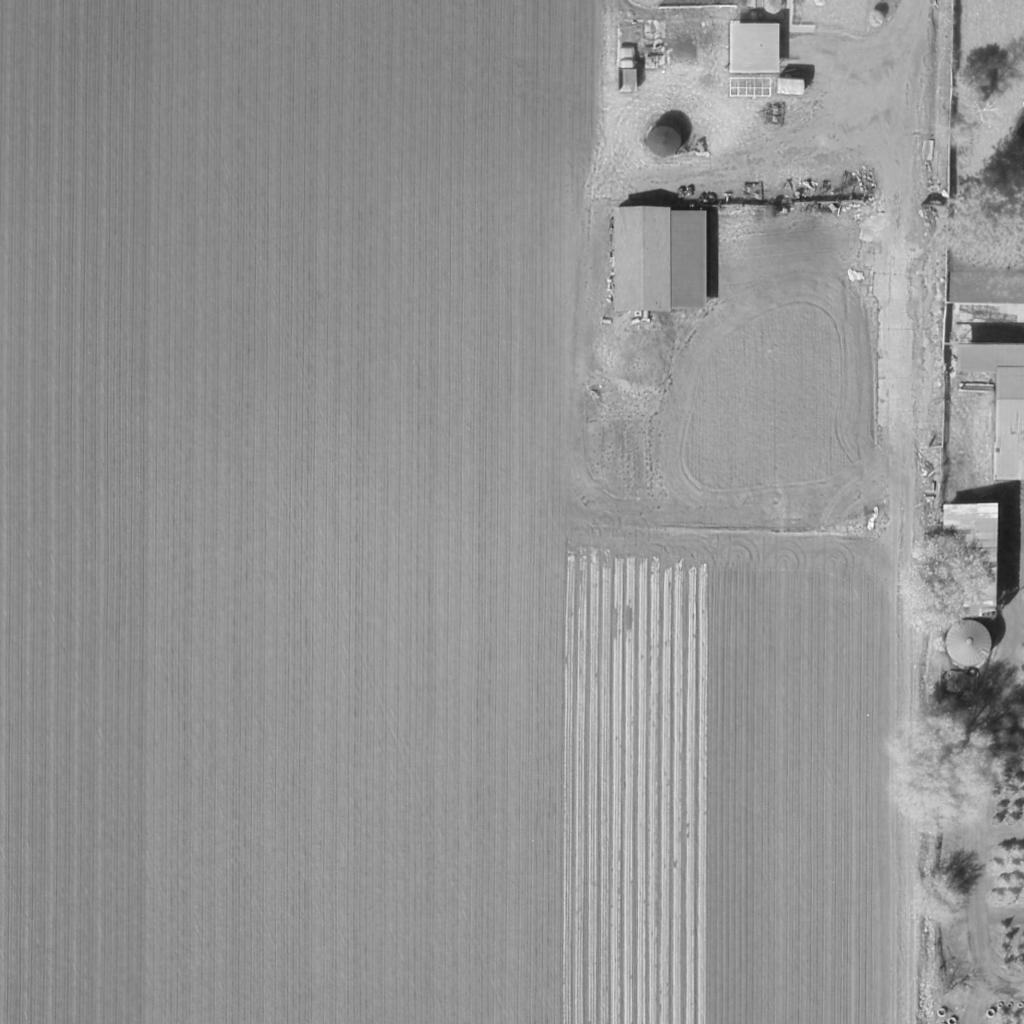vehicle: (617, 43, 641, 97)
